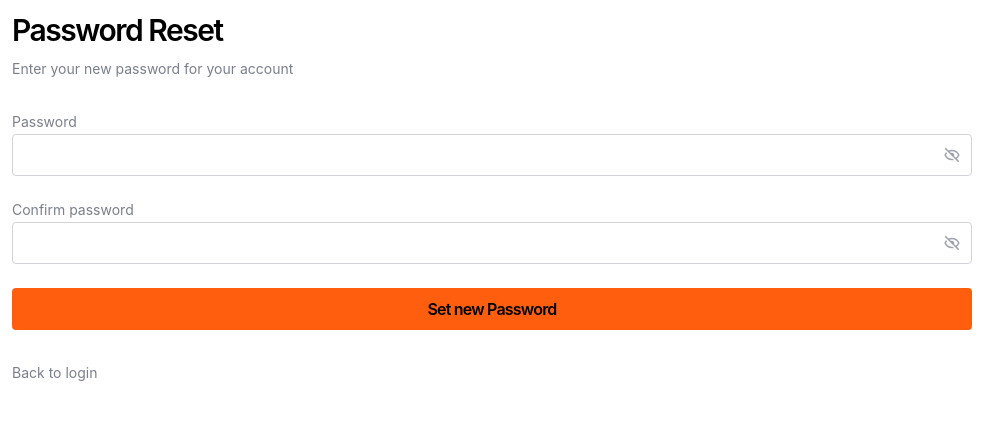
Scenario: <ResetPassword /> › Form validation › should show an error when the confirm password is invalid
Type "test" into the password field labelled "Confirm password".
click(473, 243); type("test")  # box [13,231,933,255]
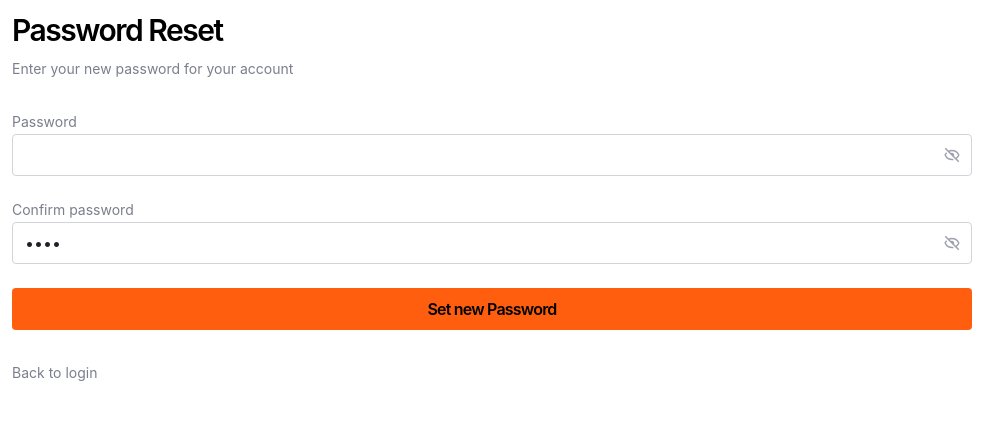
Click the button "Set new Password".
click(492, 309)  # box [12,288,972,330]
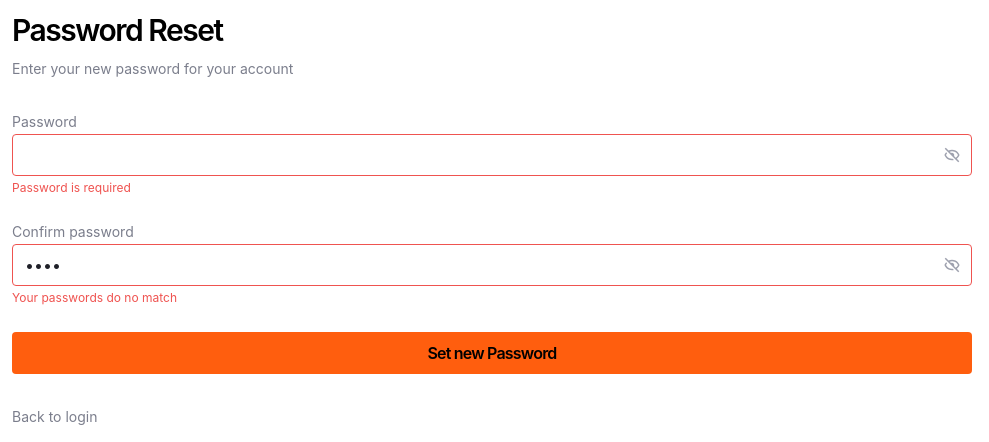
Expected: the text "Your passwords do no match" is shown, [12,290,177,305]
